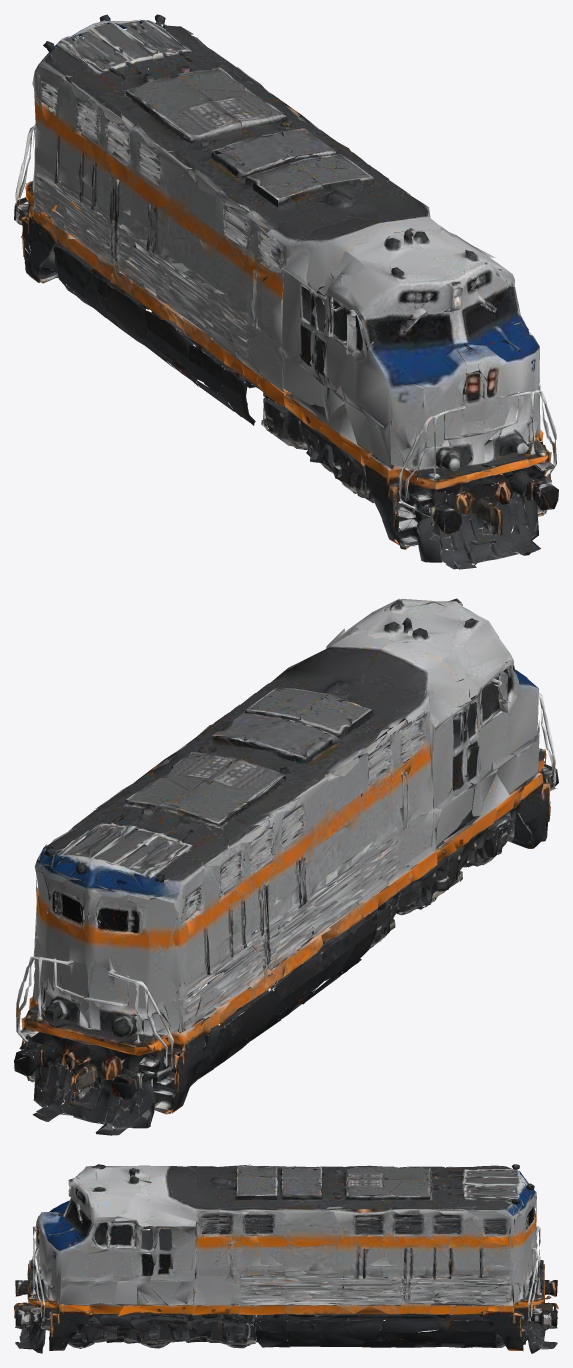
Rendered from tr-silver-loco.glb.
3 renders of one model, top to bottom at view 1: azimuth 30°, elevation 25°; view 2: azimuth 150°, elevation 25°; view 3: azimuth 270°, elevation 25°, orthographic. The views are drawn at different scales.
Visible parts, largest first — view 1: Body; view 2: Body; view 3: Body.
Part boxes in pixels (x1=…): Body: x1=14, y1=14, x2=558, y2=569; Body: x1=14, y1=598, x2=558, y2=1135; Body: x1=14, y1=1164, x2=558, y2=1353.
Bounding box in the file's own units: 0.4346 × 0.6491 × 1.9.
Materials: 1 (1 with a texture image).
